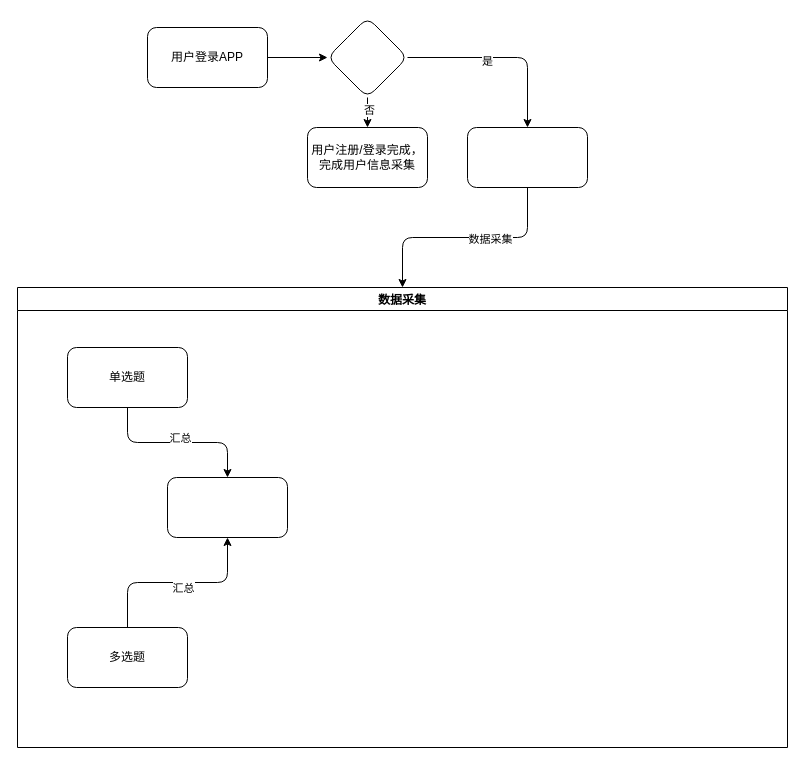
Some shapes in this 805 by 765 pixel diagram are drawn without their labels. The box of each missing label's shape, as (x1, y1, x2, y2) in pixels:
是否注册: (326, 16, 408, 98)
统计答题结果，提交问卷: (166, 476, 288, 538)
选择对社区: (466, 126, 588, 188)
